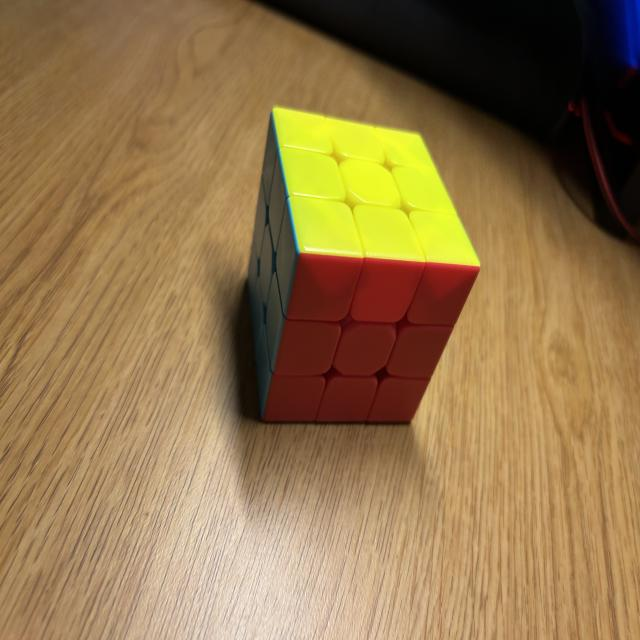Rubiks Cube: (247, 107, 481, 423)
